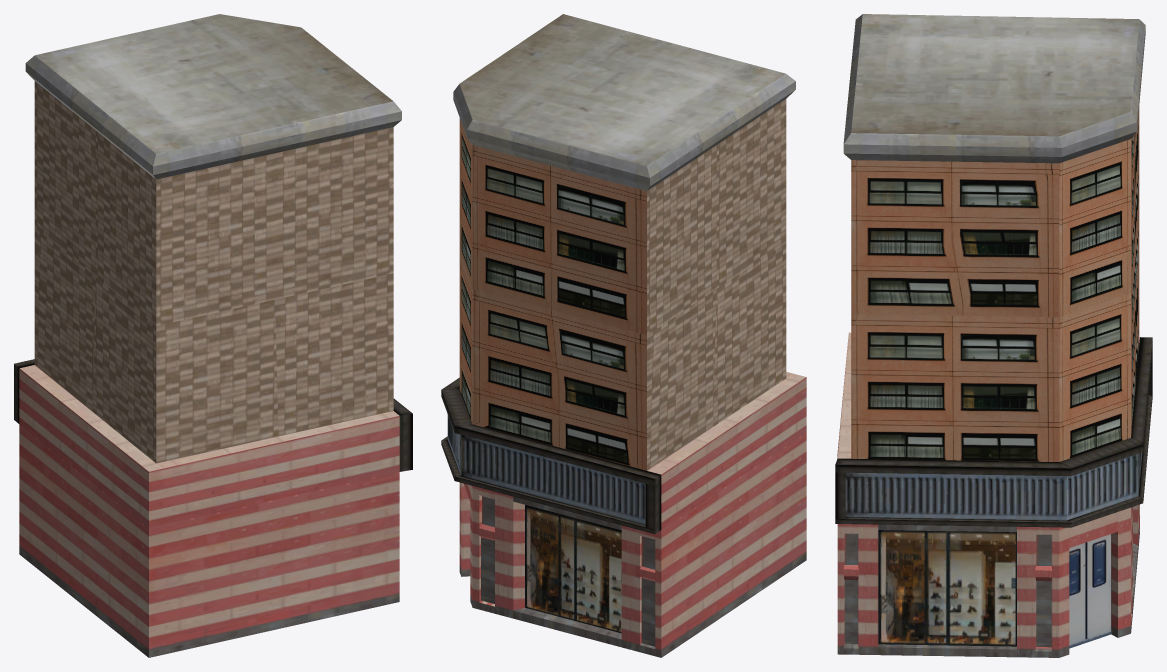
The model's file is Pizza_Delivery house19.fbx.
3 renders of one model, left to right at view 1: azimuth 30°, elevation 25°; view 2: azimuth 150°, elevation 25°; view 3: azimuth 270°, elevation 25°, orthographic. The views are drawn at different scales.
Parts seen in each view (by area): view 1: Pizza_Delivery:Pizza_Delivery:house19; view 2: Pizza_Delivery:Pizza_Delivery:house19; view 3: Pizza_Delivery:Pizza_Delivery:house19.
Part boxes in pixels (x1,y1,x2,y2): Pizza_Delivery:Pizza_Delivery:house19: [14, 14, 412, 657]; Pizza_Delivery:Pizza_Delivery:house19: [441, 14, 806, 657]; Pizza_Delivery:Pizza_Delivery:house19: [835, 14, 1152, 657].
Bounding box in the file's own units: 9.19 × 16.43 × 9.06.
